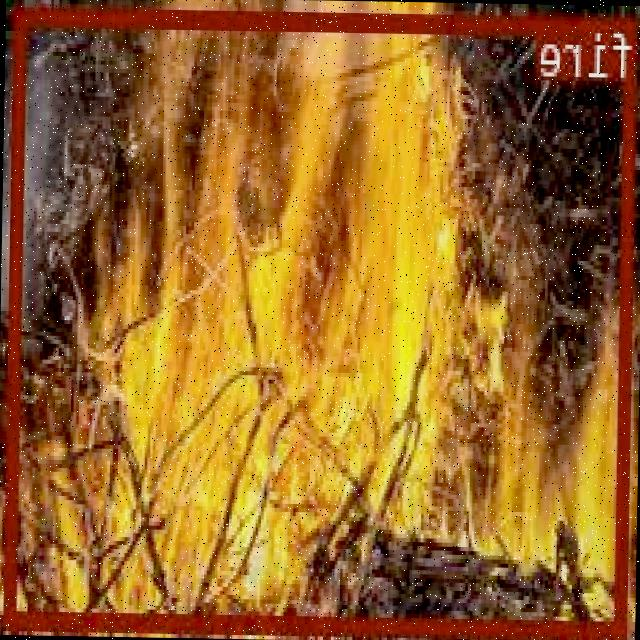fire: (7, 3, 639, 636)
